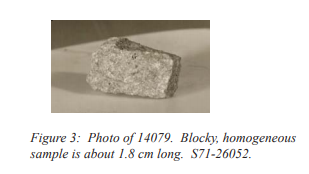Basalt: (81, 32, 183, 101)
